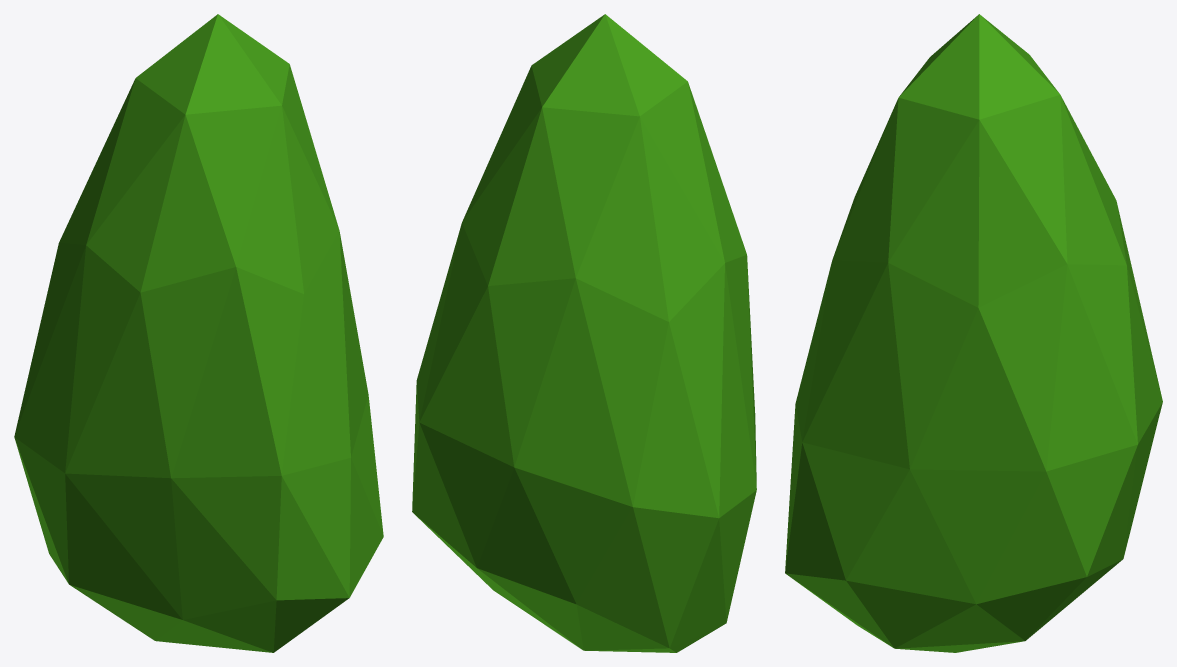
File: Bush01.fbx
3 renders of one model, left to right at view 1: azimuth 30°, elevation 25°; view 2: azimuth 150°, elevation 25°; view 3: azimuth 270°, elevation 25°, orthographic. The views are drawn at different scales.
Visible parts, largest first — view 1: Bush01; view 2: Bush01; view 3: Bush01.
Part boxes in pixels (x1,y1,x2,y2): Bush01: (14, 14, 383, 652); Bush01: (412, 14, 756, 652); Bush01: (785, 14, 1162, 652).
Size of the model in its own units: 226 by 428 by 233.
